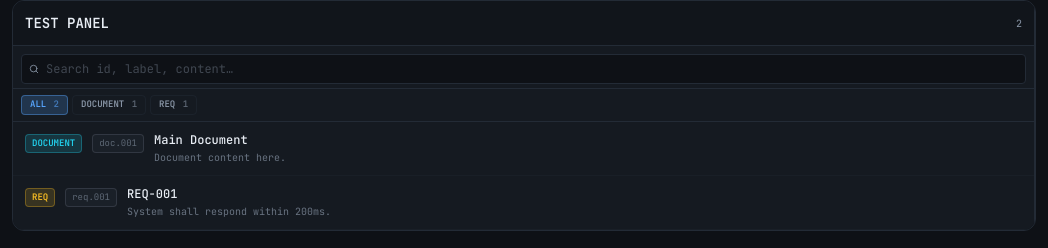
Test: NodeTablePanel — search › filters by content text
Type "200ms" into the field with placeholder "Search id, label, content…". click: (524, 69)
box: [21,54,1026,84]
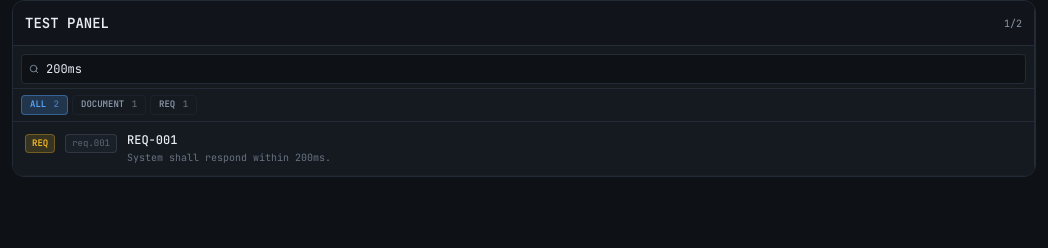
Check: the text "REQ-001" is shown, box [127,132,177,148]
Check: the button "Main Document" is gone
